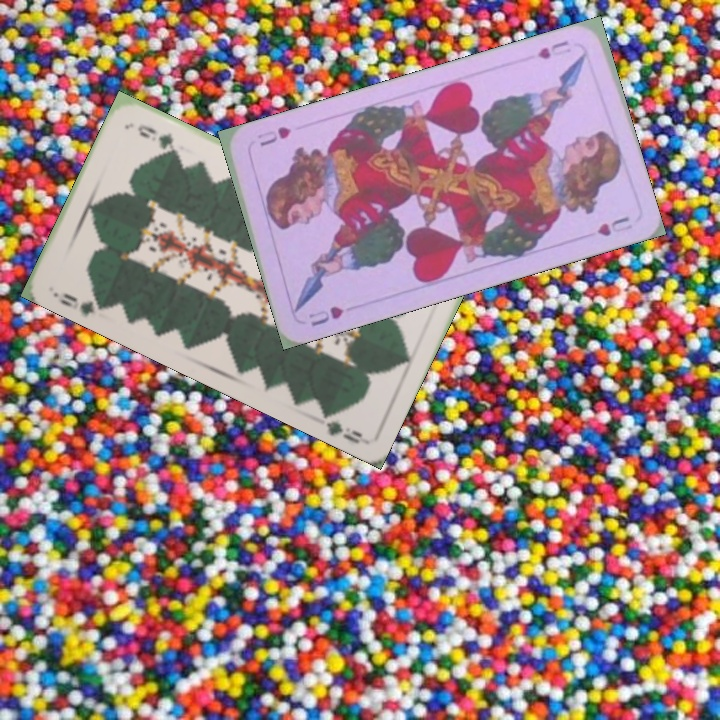G9: (55, 289, 109, 319)
HU: (304, 302, 346, 329), (533, 36, 574, 62)
